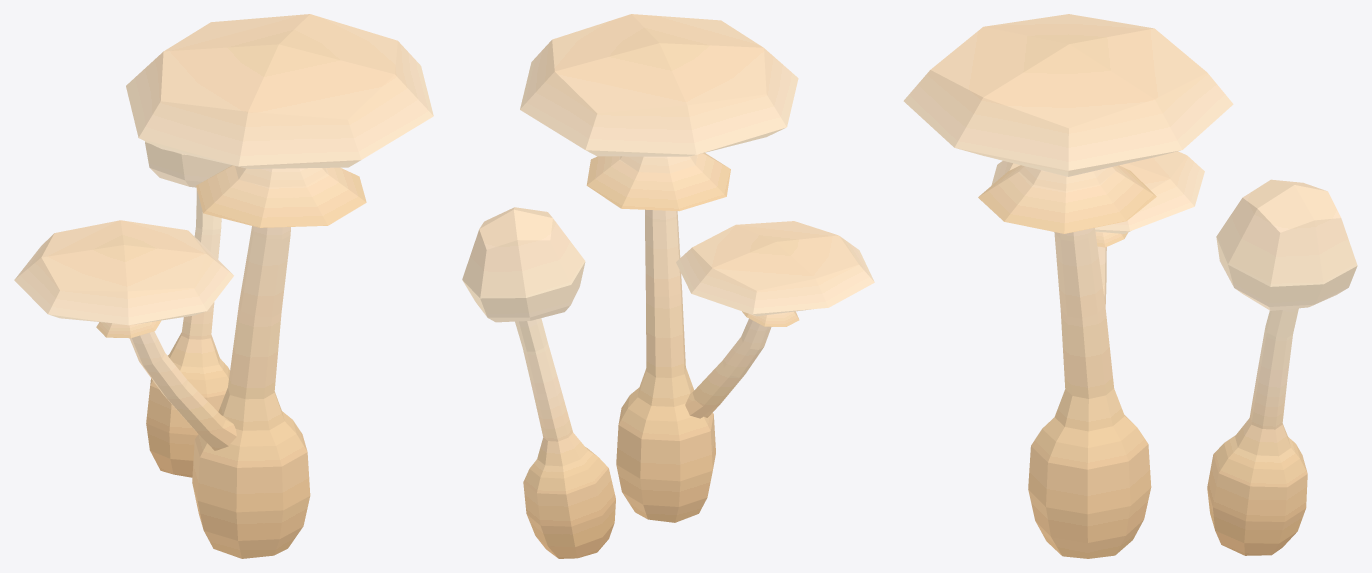
The model's file is Cluster_DestroyingAngel.glb.
The picture shows the model from 3 angles, left to right: view 1: azimuth 30°, elevation 25°; view 2: azimuth 150°, elevation 25°; view 3: azimuth 270°, elevation 25°; orthographic projection. The views are drawn at different scales.
Visible parts, largest first — view 1: DestroyA_bundle; view 2: DestroyA_bundle; view 3: DestroyA_bundle.
Boxes of the visible parts, x1,y1,x2,y2 form: DestroyA_bundle: (14, 14, 433, 558); DestroyA_bundle: (462, 14, 874, 558); DestroyA_bundle: (903, 14, 1357, 558).
Bounding box in the file's own units: 5.56 × 7.23 × 5.74.
1 material, 1 textured.
